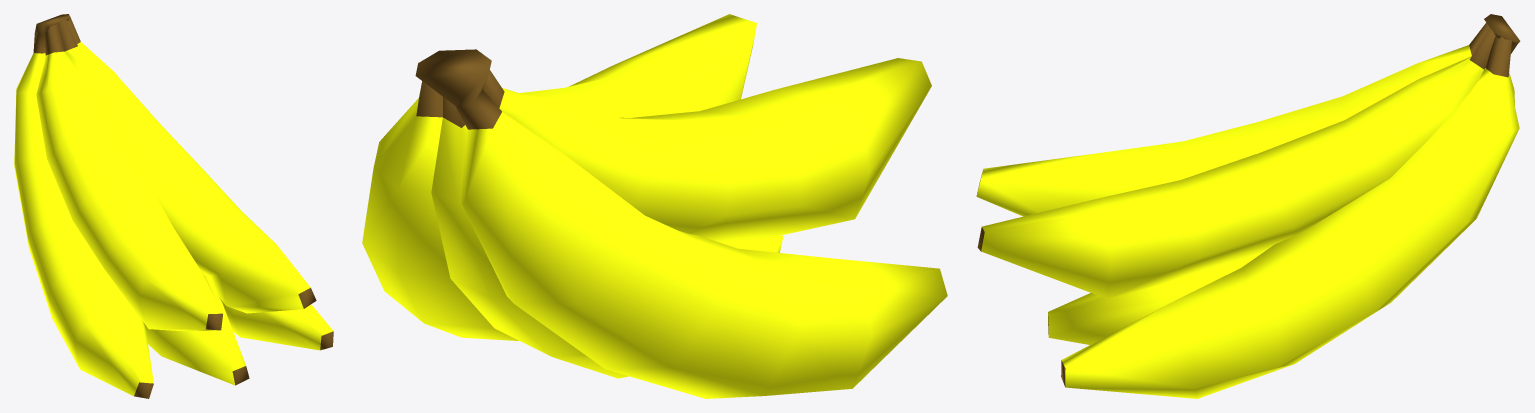
Rendered from BananaBunch.glb.
The picture shows the model from 3 angles, left to right: view 1: azimuth 30°, elevation 25°; view 2: azimuth 150°, elevation 25°; view 3: azimuth 270°, elevation 25°; orthographic projection. The views are drawn at different scales.
Parts seen in each view (by area): view 1: BananaBunch; view 2: BananaBunch; view 3: BananaBunch.
Boxes of the visible parts, bbox=[...] form: BananaBunch: bbox=[14, 14, 333, 398]; BananaBunch: bbox=[362, 14, 947, 398]; BananaBunch: bbox=[976, 14, 1520, 398].
Size of the model in its own units: 0.2257 by 0.2572 by 0.3855.
Materials: 1 (1 with a texture image).
